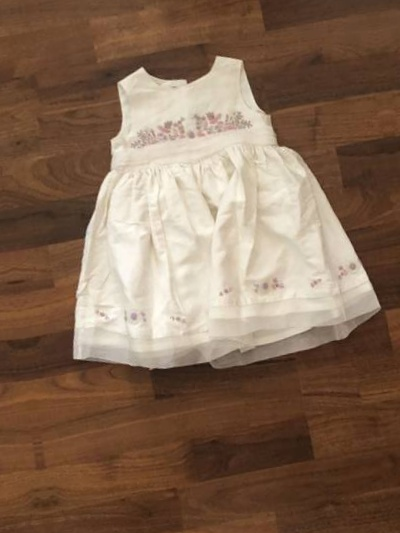Dress: (28, 29, 391, 435)
